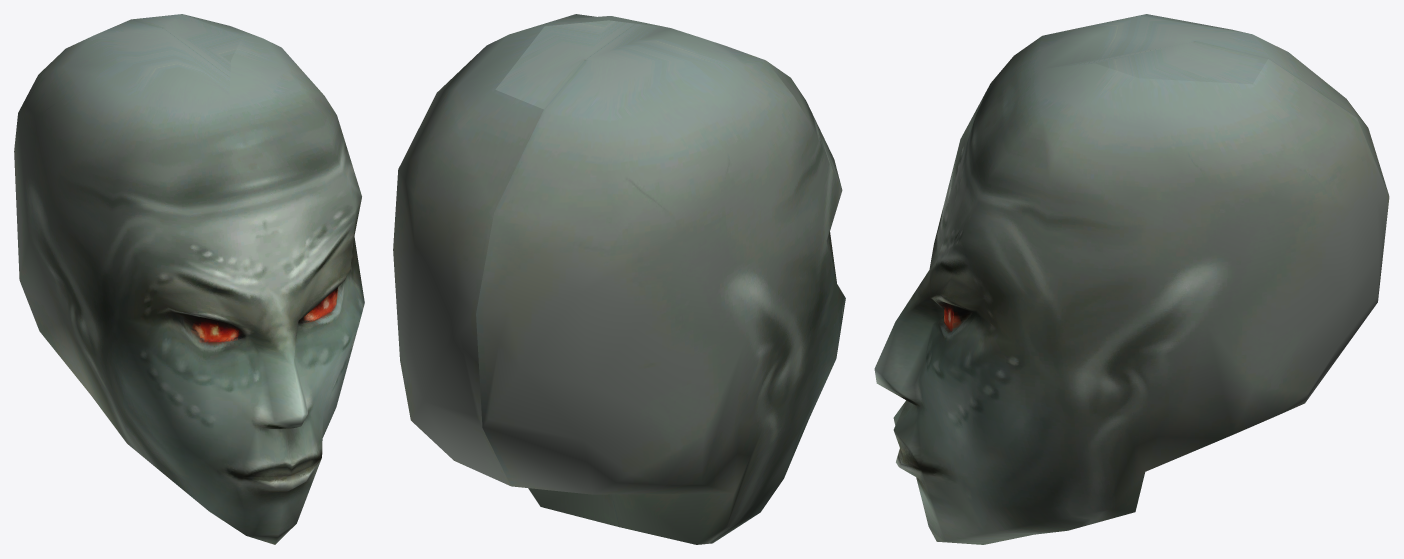
Rendered from b_n_dark elf_f_head_08.glb.
3 views of the same model, side by side, from view 1: azimuth 30°, elevation 25°; view 2: azimuth 150°, elevation 25°; view 3: azimuth 270°, elevation 25° (orthographic). The views are drawn at different scales.
Visible parts, largest first — view 1: Tri B_N_Dark Elf_F_Head_08; view 2: Tri B_N_Dark Elf_F_Head_08; view 3: Tri B_N_Dark Elf_F_Head_08.
Boxes of the visible parts, x1=… form: Tri B_N_Dark Elf_F_Head_08: x1=14, y1=14, x2=364, y2=544; Tri B_N_Dark Elf_F_Head_08: x1=393, y1=14, x2=845, y2=544; Tri B_N_Dark Elf_F_Head_08: x1=874, y1=14, x2=1389, y2=544.
Bounding box in the file's own units: 0.0941 × 0.1518 × 0.1417.
1 material, 1 textured.
